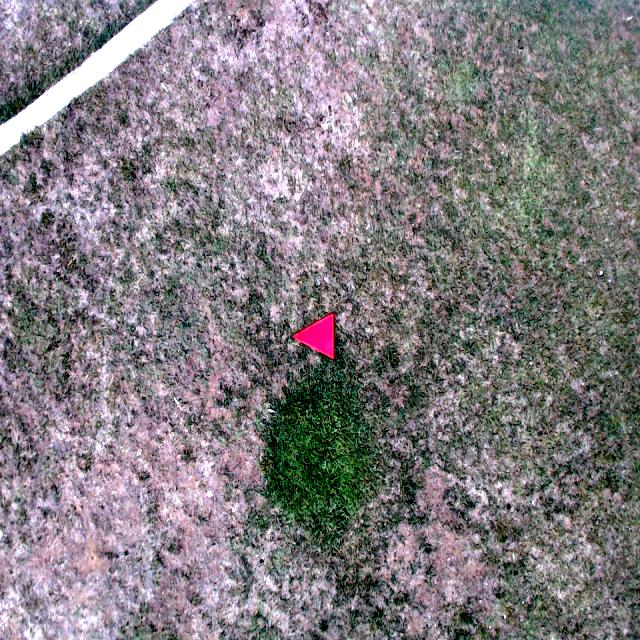red_triangle: (290, 311, 335, 361)
